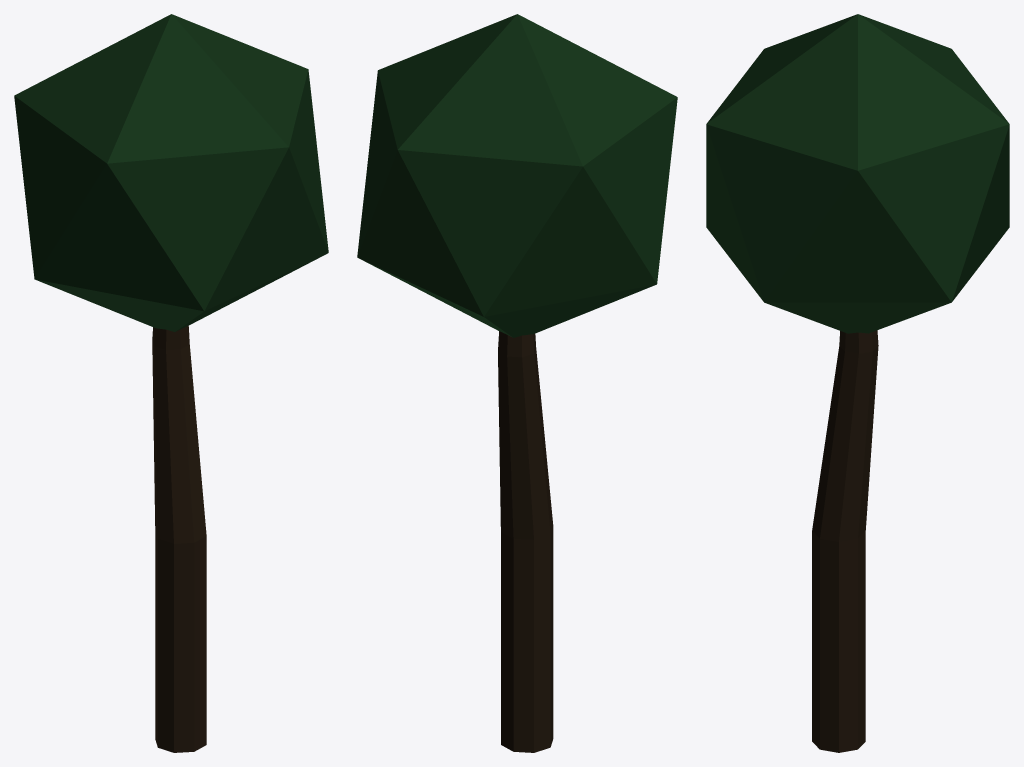
The model's file is Tree1.obj.
3 views of the same model, side by side, from view 1: azimuth 30°, elevation 25°; view 2: azimuth 150°, elevation 25°; view 3: azimuth 270°, elevation 25° (orthographic).
Visible parts, largest first — view 1: Cube; view 2: Cube; view 3: Cube.
Part boxes in pixels (x1,y1,x2,y2): Cube: [14, 14, 328, 752]; Cube: [357, 14, 677, 752]; Cube: [706, 14, 1009, 752].
Size of the model in its own units: 3.57 by 8.97 by 3.39.
